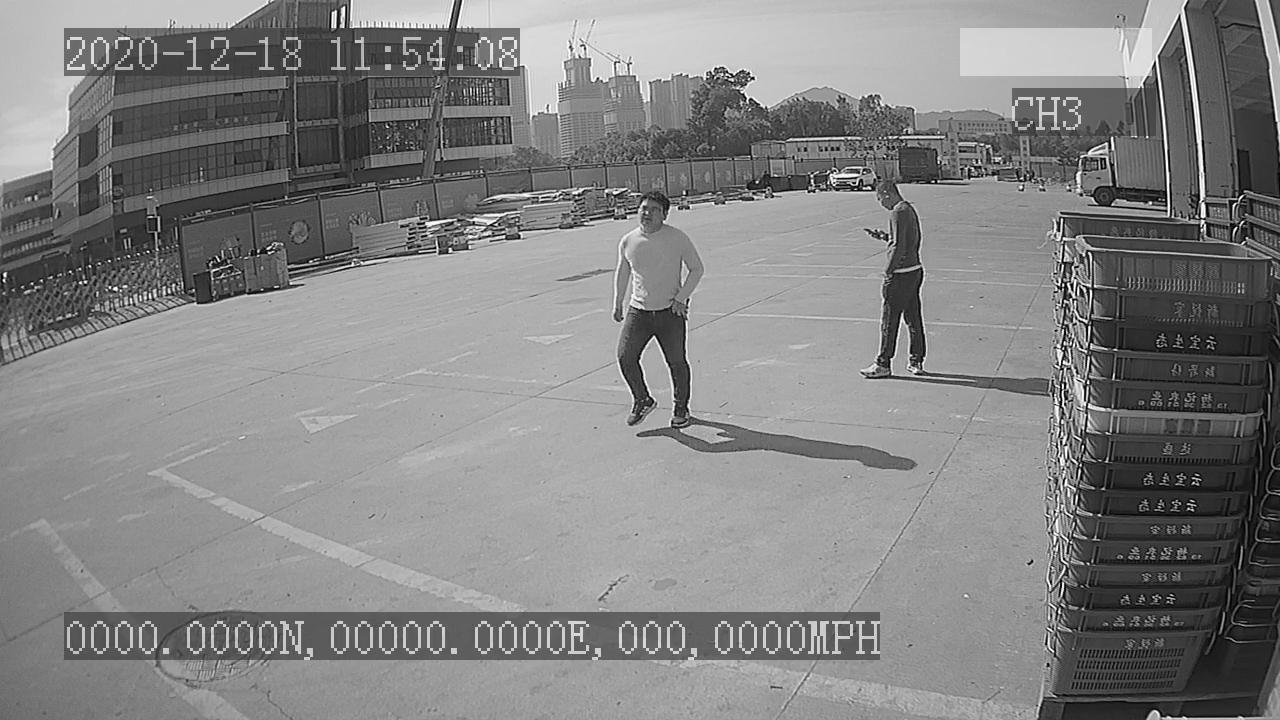person: (601, 185, 706, 438), (854, 179, 936, 383)
